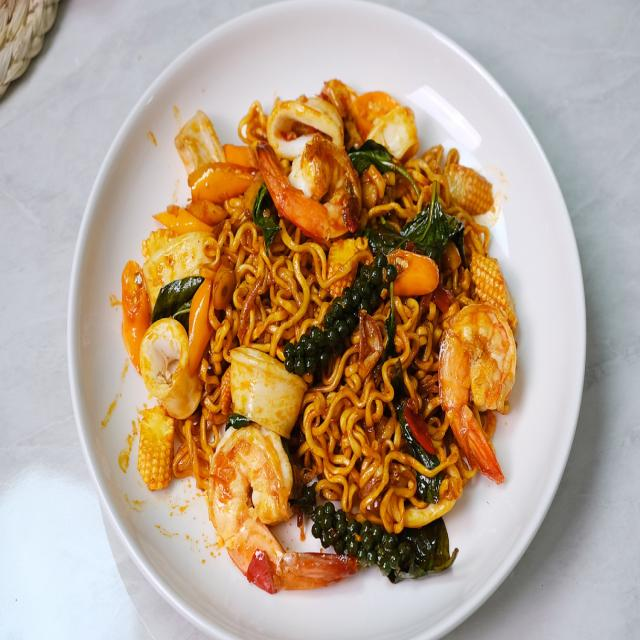carb: (181, 122, 445, 506)
meat: (209, 425, 333, 603), (445, 300, 512, 479), (262, 149, 362, 238)
stir-fried instant noodles: (141, 92, 527, 602)
vegetable: (403, 200, 448, 258)
